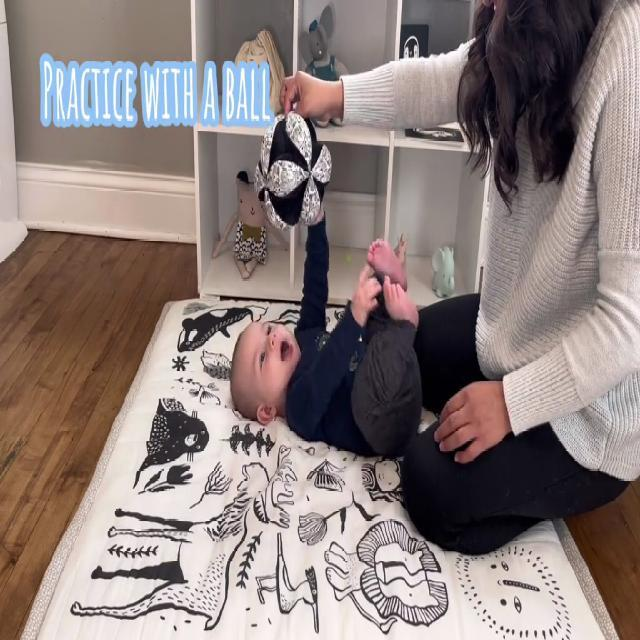baby: (231, 197, 426, 458)
